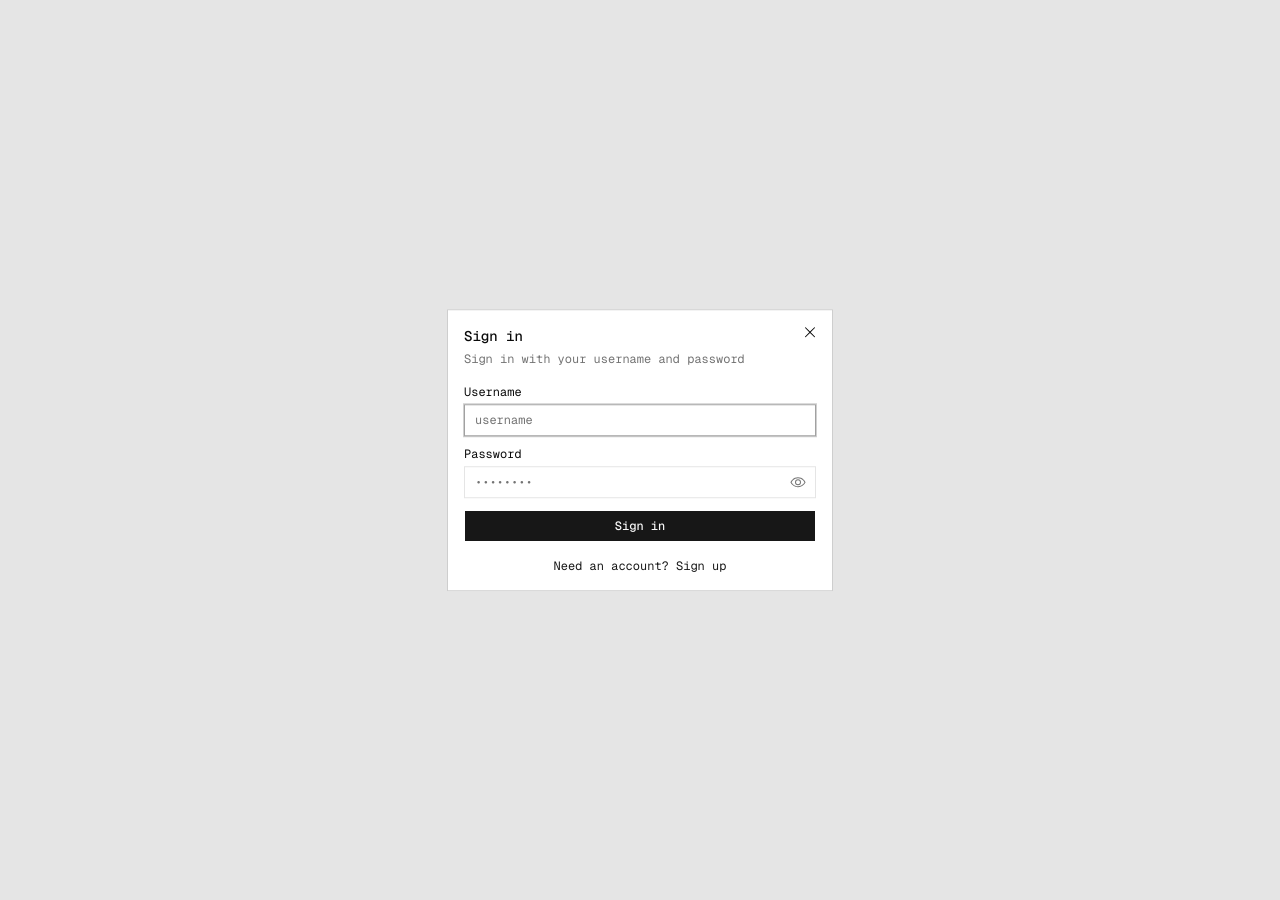
Test case: AuthDialog › shows an error when sign-up passwords do not match
Click the button "Need an account? Sign up" at (640, 566), box [464,558,816,574]
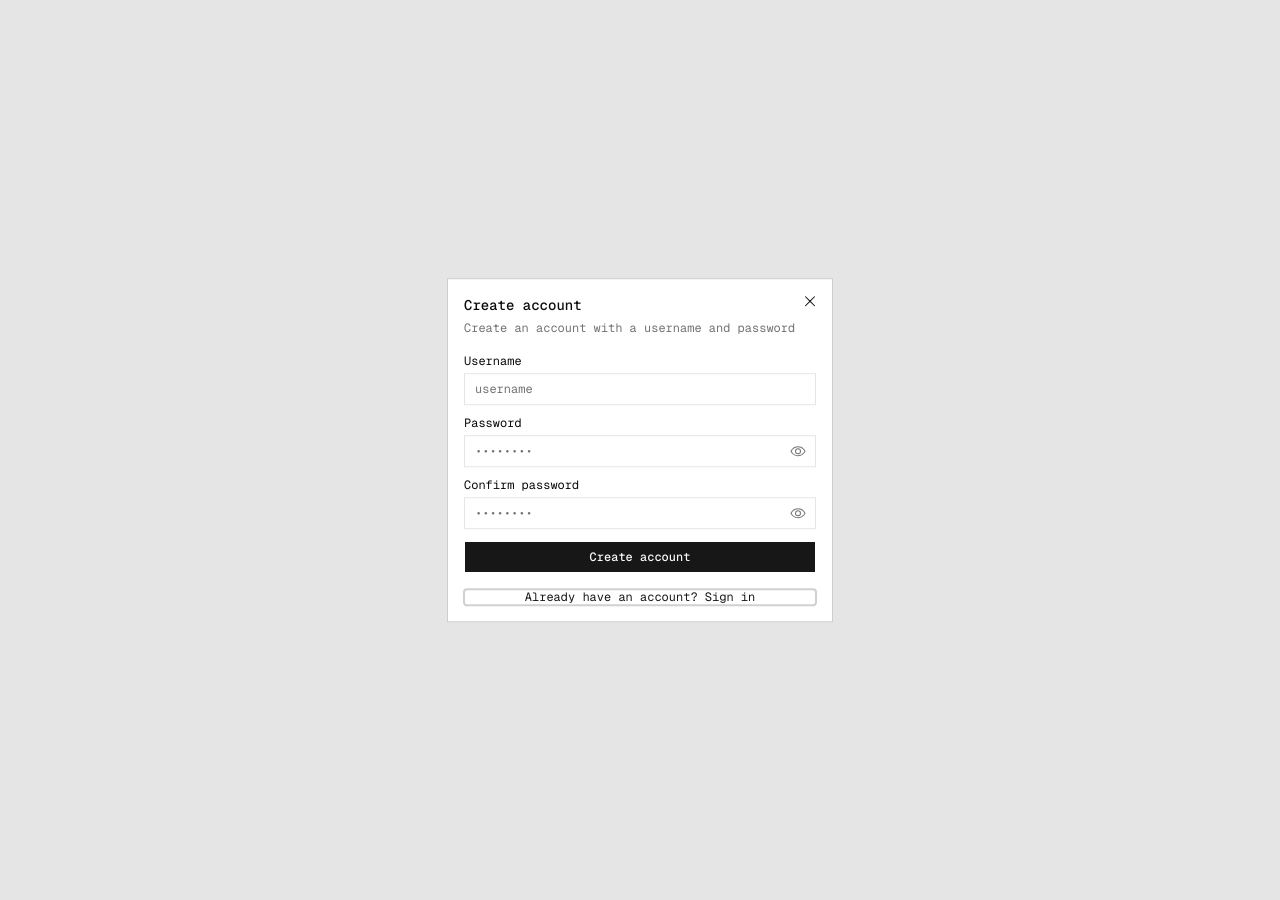
Type "jati" into the field labelled "Username" at (640, 389), box [464,373,816,405]
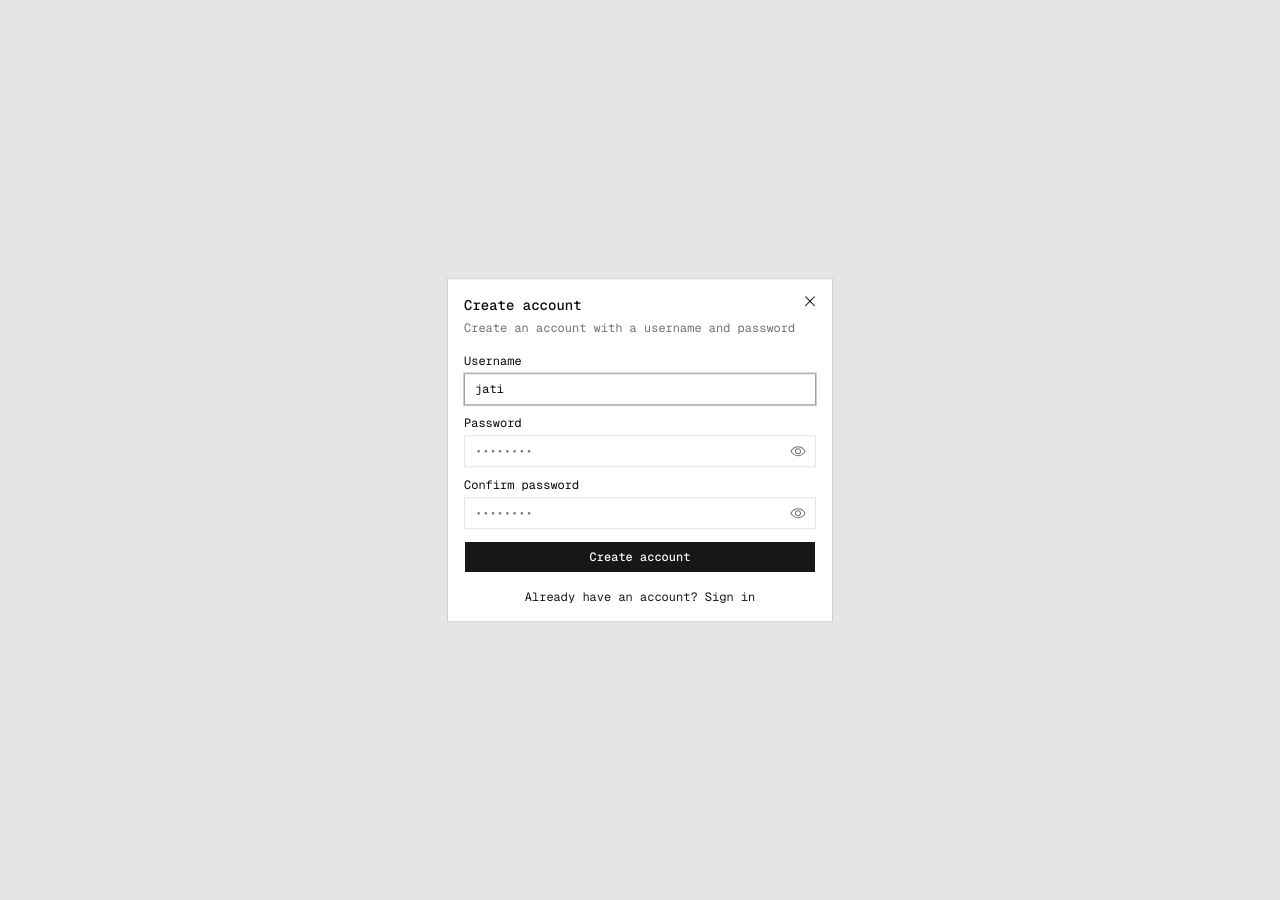
Type "Abcdef1!" into the password field labelled "Password" at (640, 451), box [464,435,816,467]
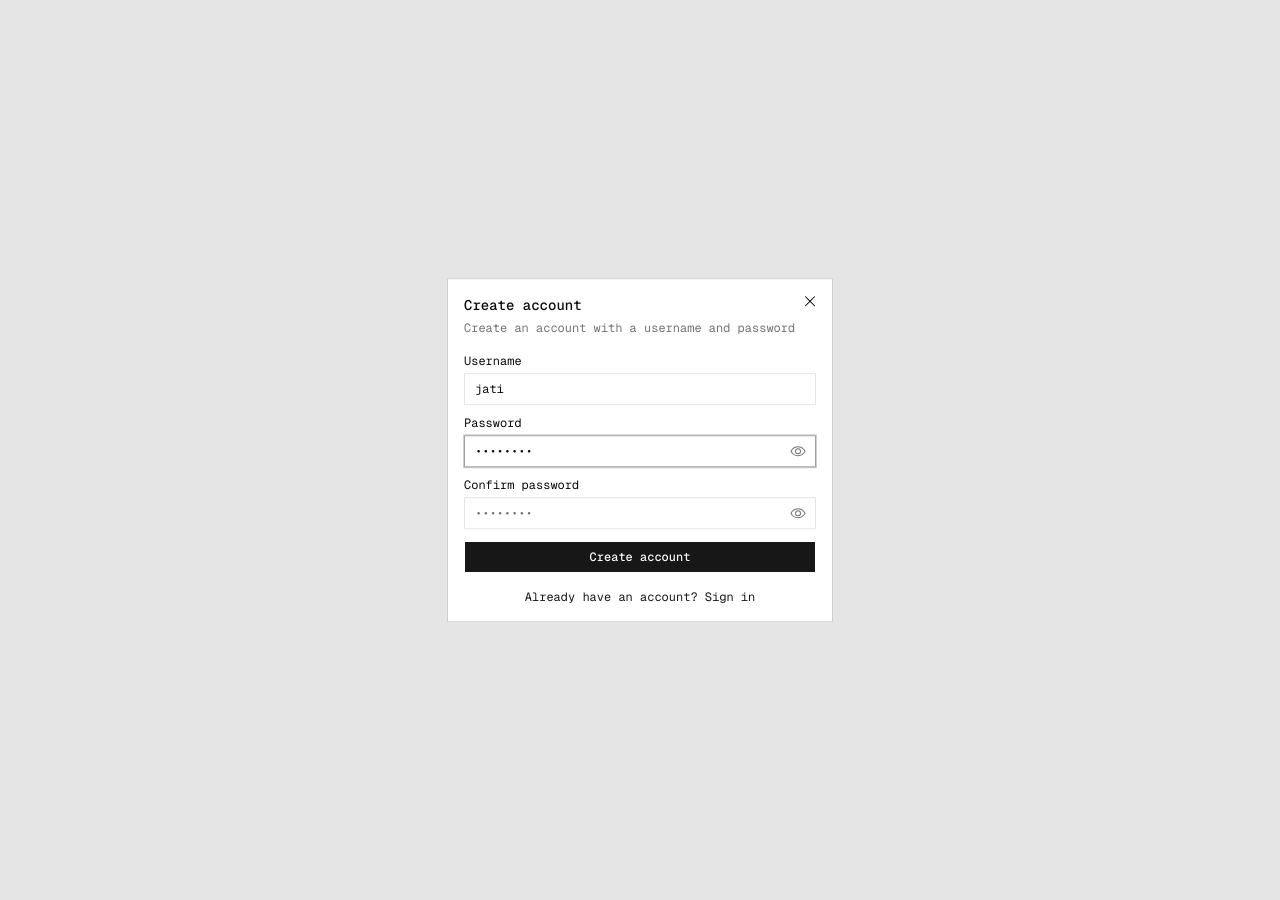
Type "Different1!" into the password field labelled "Confirm password" at (640, 513), box [464,497,816,529]
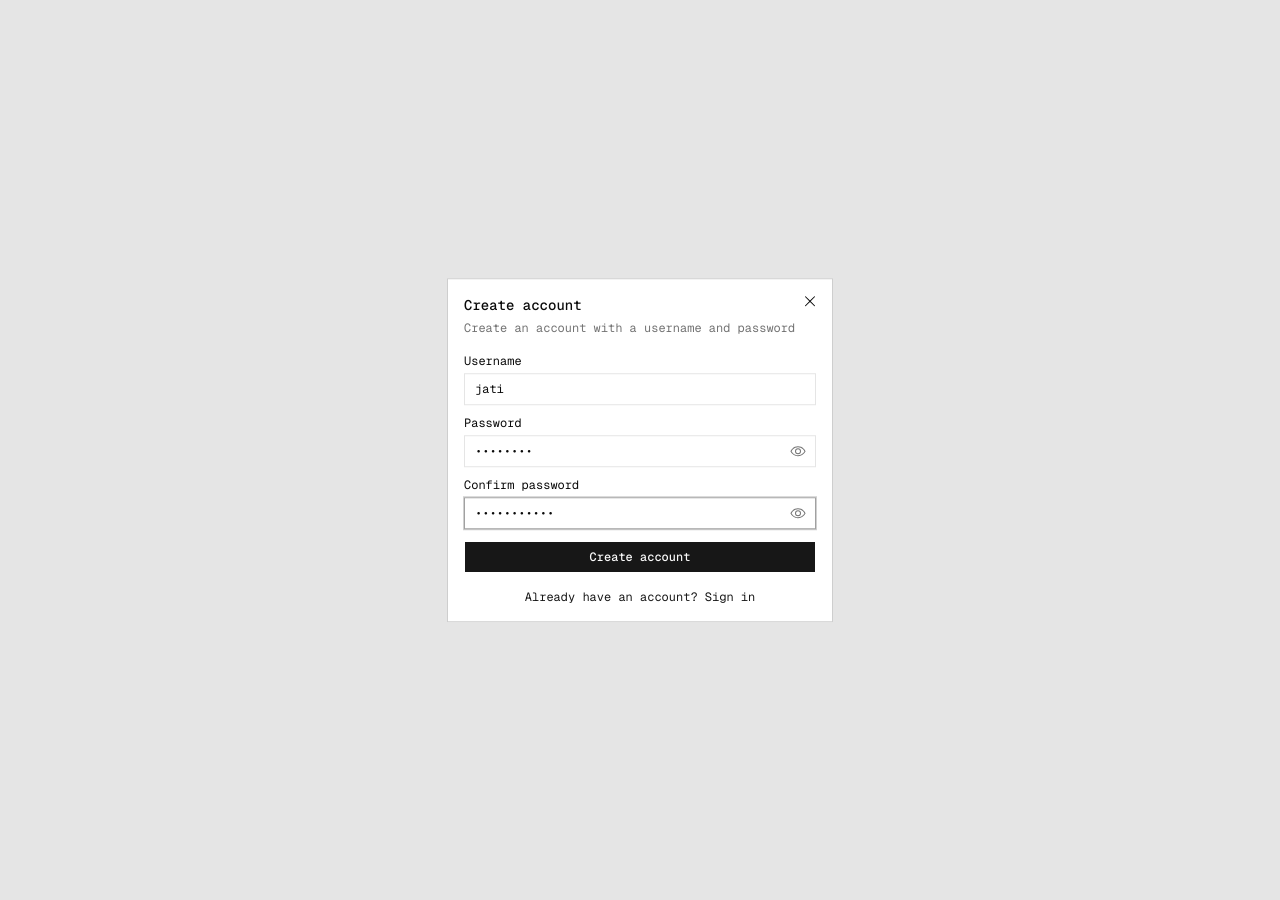
Click the button "Create account" at (640, 557), box [464,541,816,573]
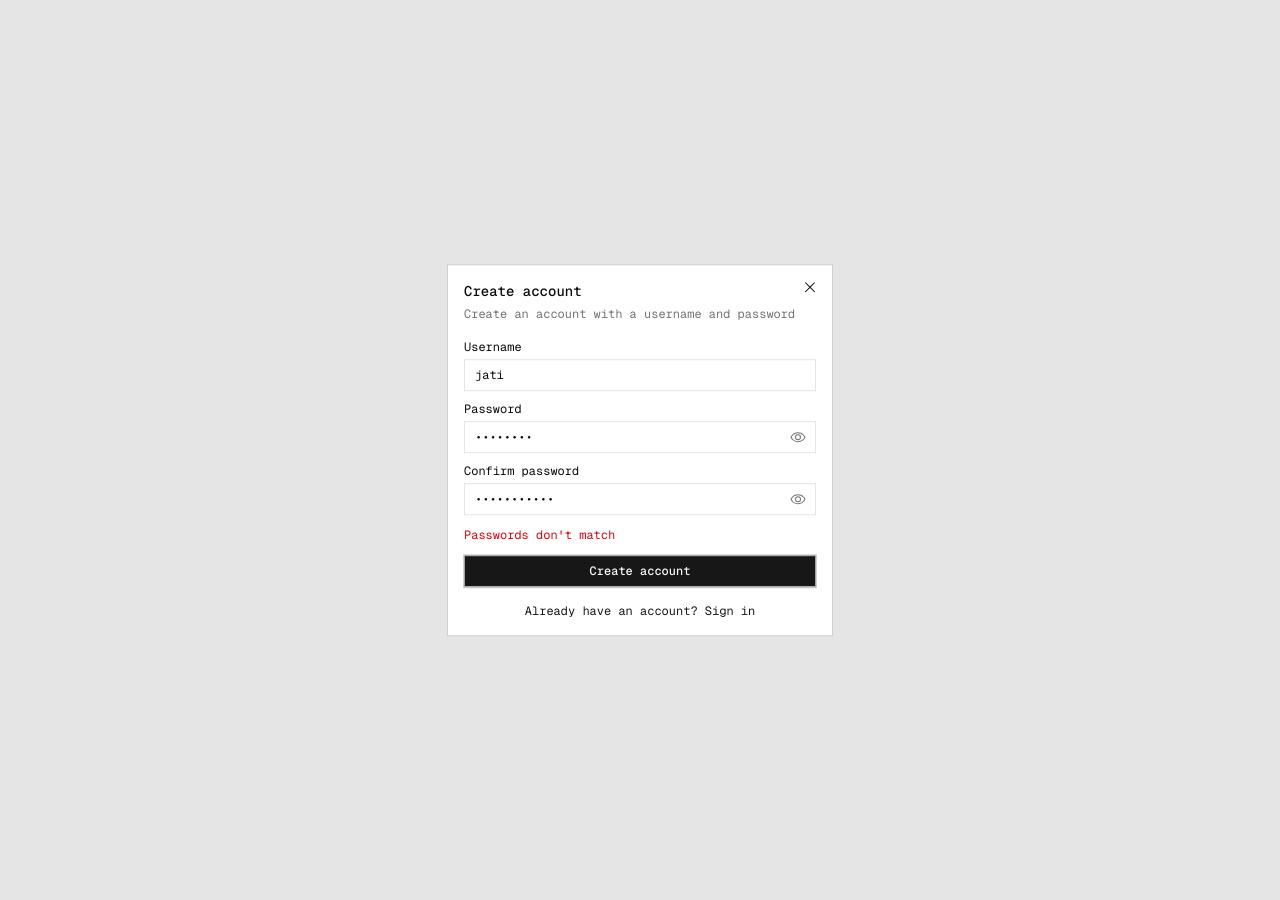
Expected: the text "Passwords don't match" is shown, [464,527,615,543]
